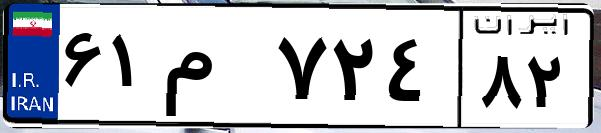1: (110, 28, 158, 98)
2: (330, 28, 385, 110), (525, 38, 570, 115)
4: (385, 28, 445, 110)
6: (57, 26, 110, 100)
7: (270, 28, 330, 110)
8: (475, 38, 525, 113)
م: (158, 20, 270, 120)
